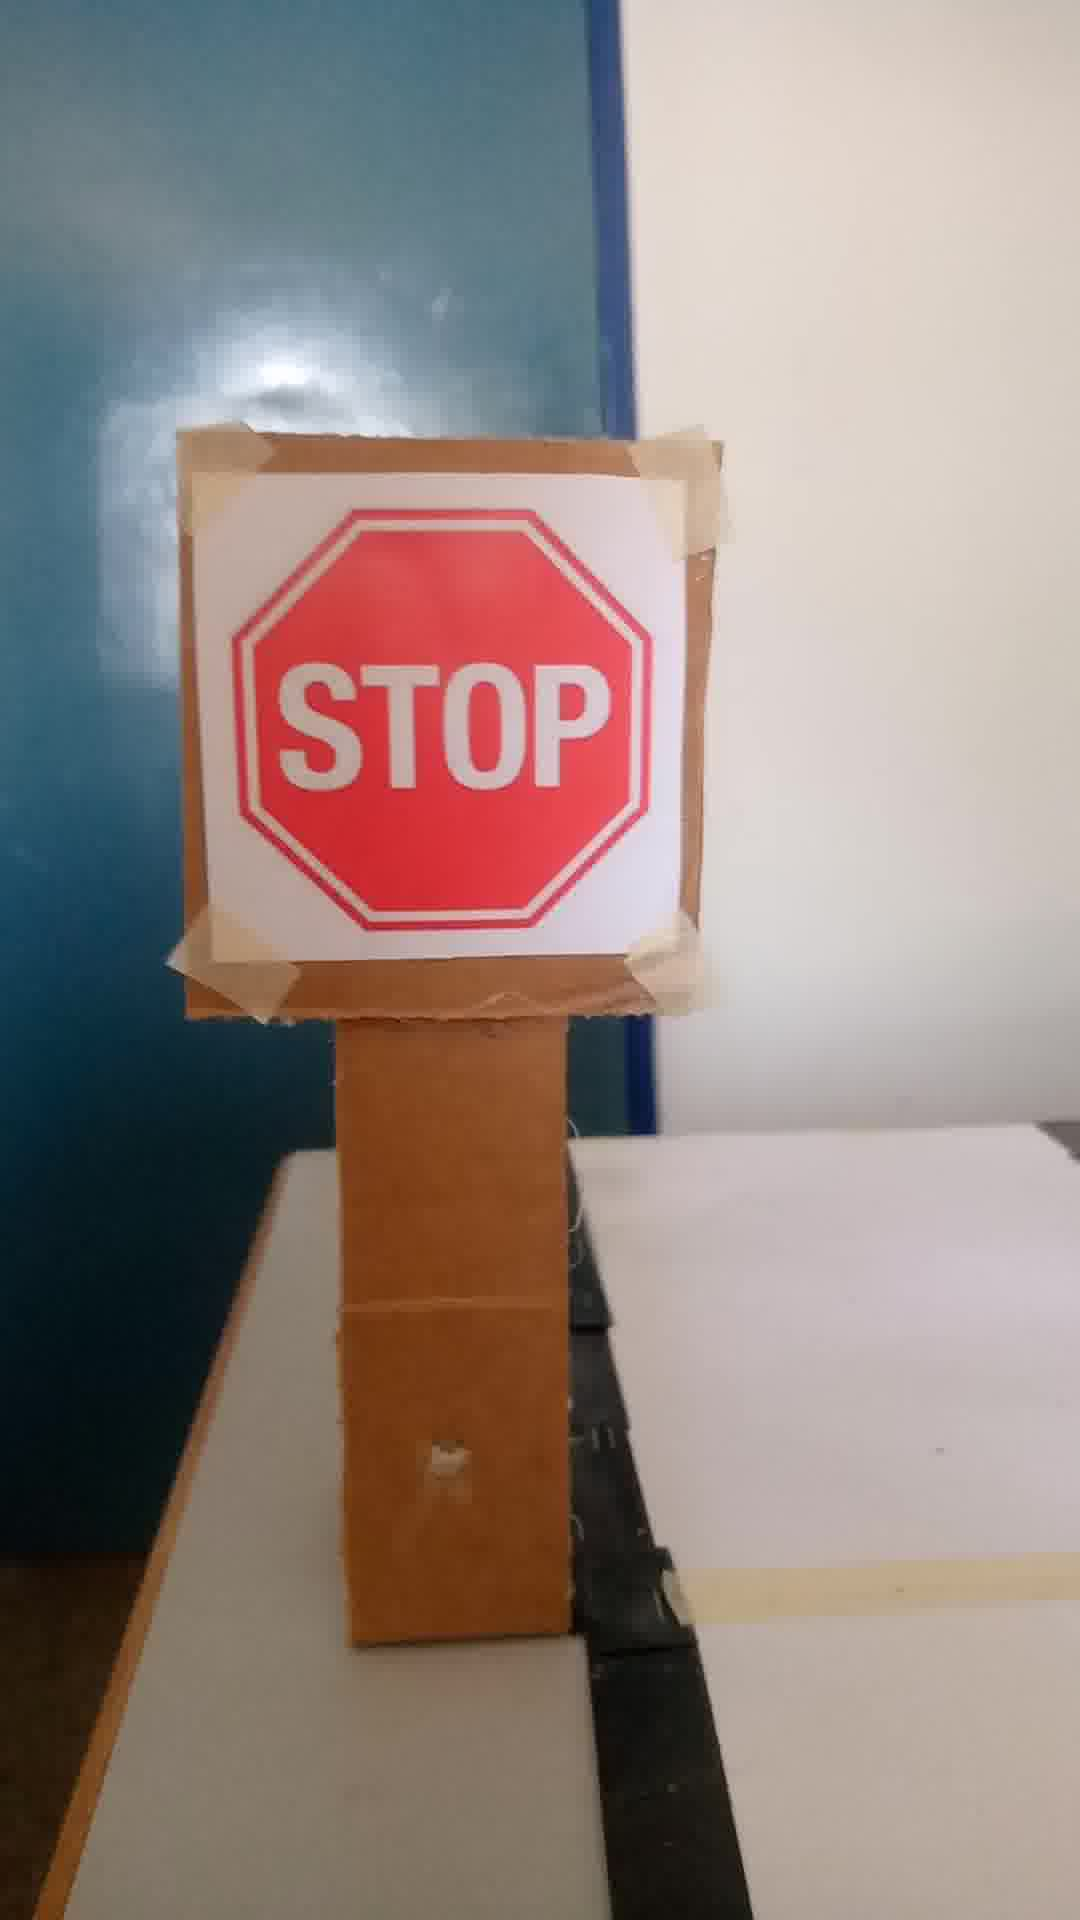panel101: (187, 473, 680, 963)
